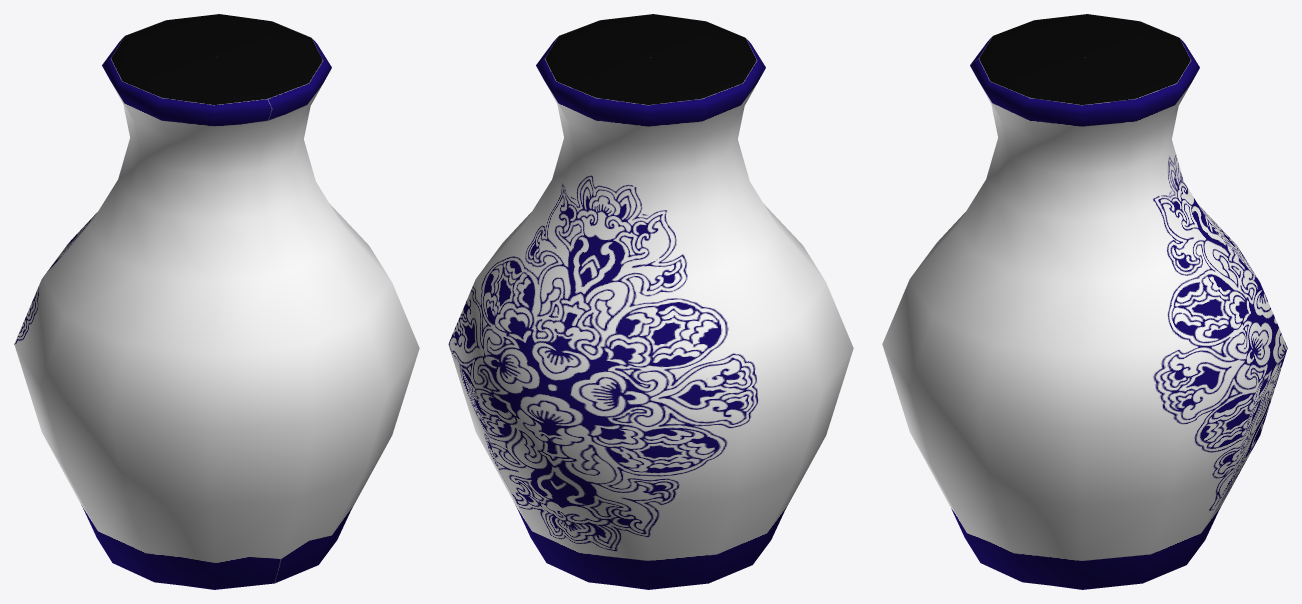
The model's file is vase.fbx.
3 renders of one model, left to right at view 1: azimuth 30°, elevation 25°; view 2: azimuth 150°, elevation 25°; view 3: azimuth 270°, elevation 25°, orthographic.
Parts seen in each view (by area): view 1: vase; view 2: vase; view 3: vase.
Boxes of the visible parts, x1,y1,x2,y2 form: vase: (14,14,419,589); vase: (448,14,853,589); vase: (882,14,1287,589).
Bounding box in the file's own units: 3.14 × 4.22 × 3.18.
Materials: 1 (1 with a texture image).
